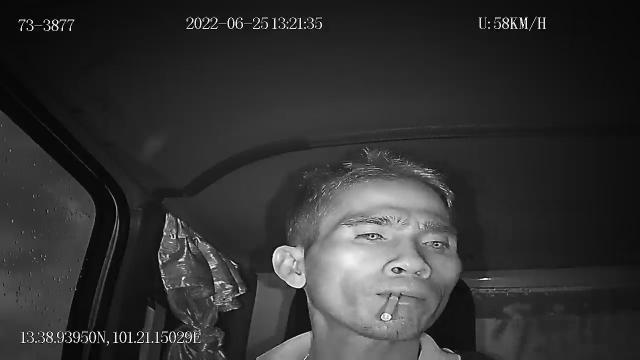SafeDriving: (346, 221, 394, 247), (414, 230, 458, 254)
Smoking: (380, 292, 400, 324)
